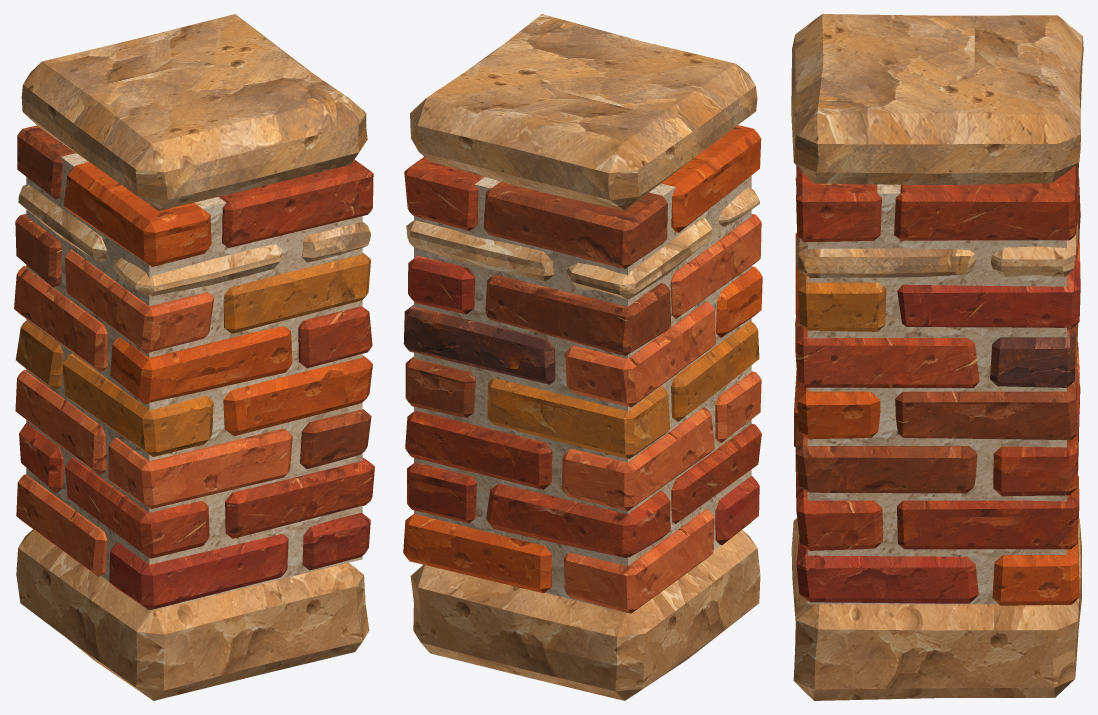
Rendered from battlement_corner__clay_brick.glb.
3 views of the same model, side by side, from view 1: azimuth 30°, elevation 25°; view 2: azimuth 150°, elevation 25°; view 3: azimuth 270°, elevation 25° (orthographic). The views are drawn at different scales.
Visible parts, largest first — view 1: model; view 2: model; view 3: model.
Boxes of the visible parts, <box> form: model: <box>14,14,374,700</box>; model: <box>403,14,762,700</box>; model: <box>791,14,1083,700</box>.
Bounding box in the file's own units: 0.5779 × 1.29 × 0.5839.
Materials: 12 (12 with a texture image).
